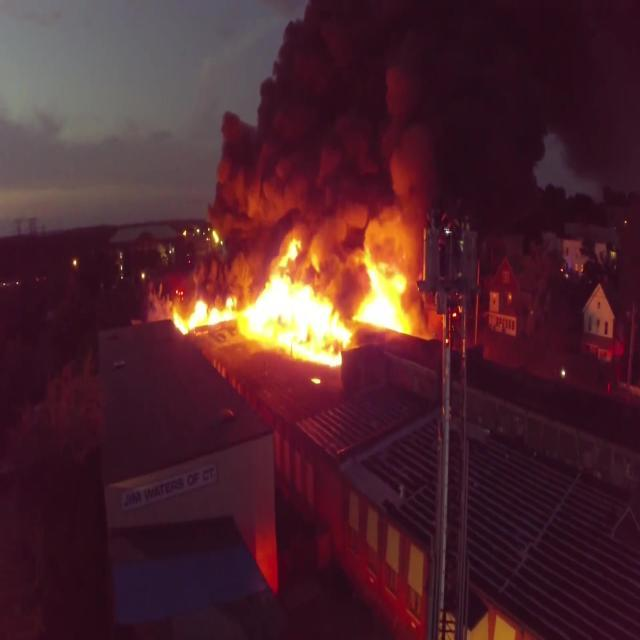Fire: (248, 232, 353, 374), (351, 240, 423, 338), (162, 284, 245, 334)
Smoke: (205, 5, 640, 252)
